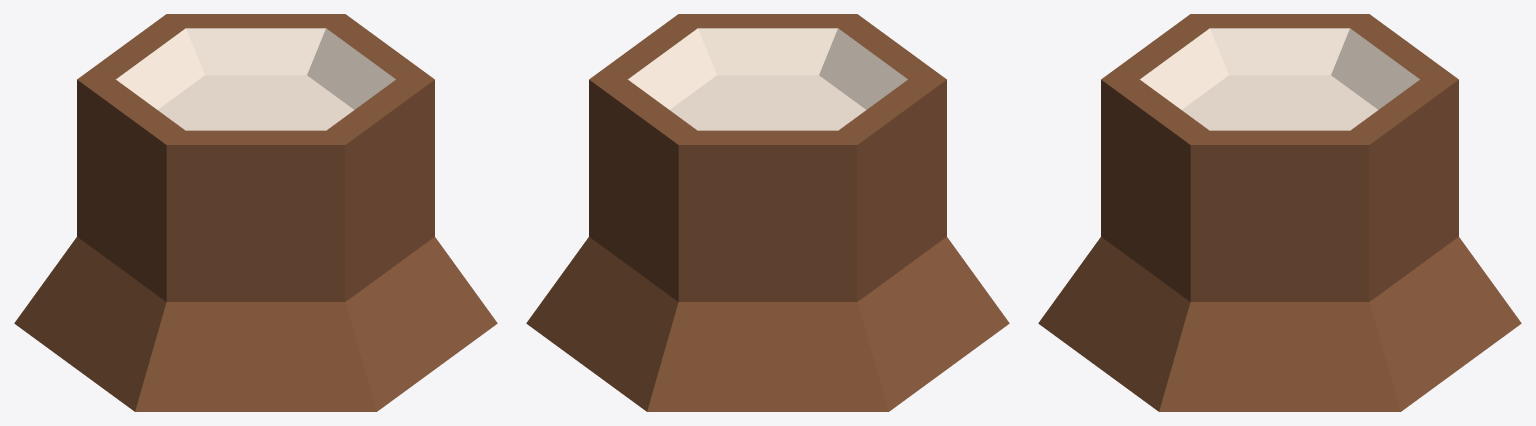
File: stump.glb
3 renders of one model, left to right at view 1: azimuth 30°, elevation 25°; view 2: azimuth 150°, elevation 25°; view 3: azimuth 270°, elevation 25°, orthographic.
Parts seen in each view (by area): view 1: stump_round; view 2: stump_round; view 3: stump_round.
Part boxes in pixels (bbox=[...]): stump_round: bbox=[14, 14, 497, 411]; stump_round: bbox=[526, 14, 1009, 411]; stump_round: bbox=[1038, 14, 1521, 411].
Size of the model in its own units: 0.3213 by 0.2065 by 0.371.
